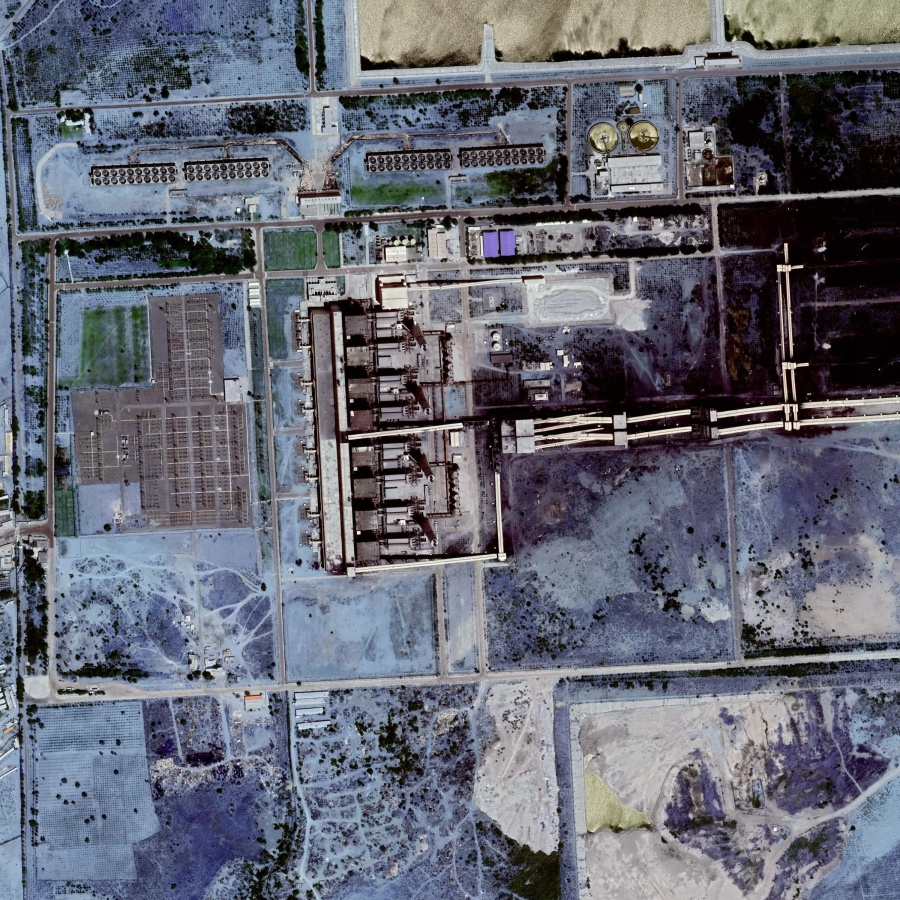PowerPlant: (303, 279, 502, 564)
